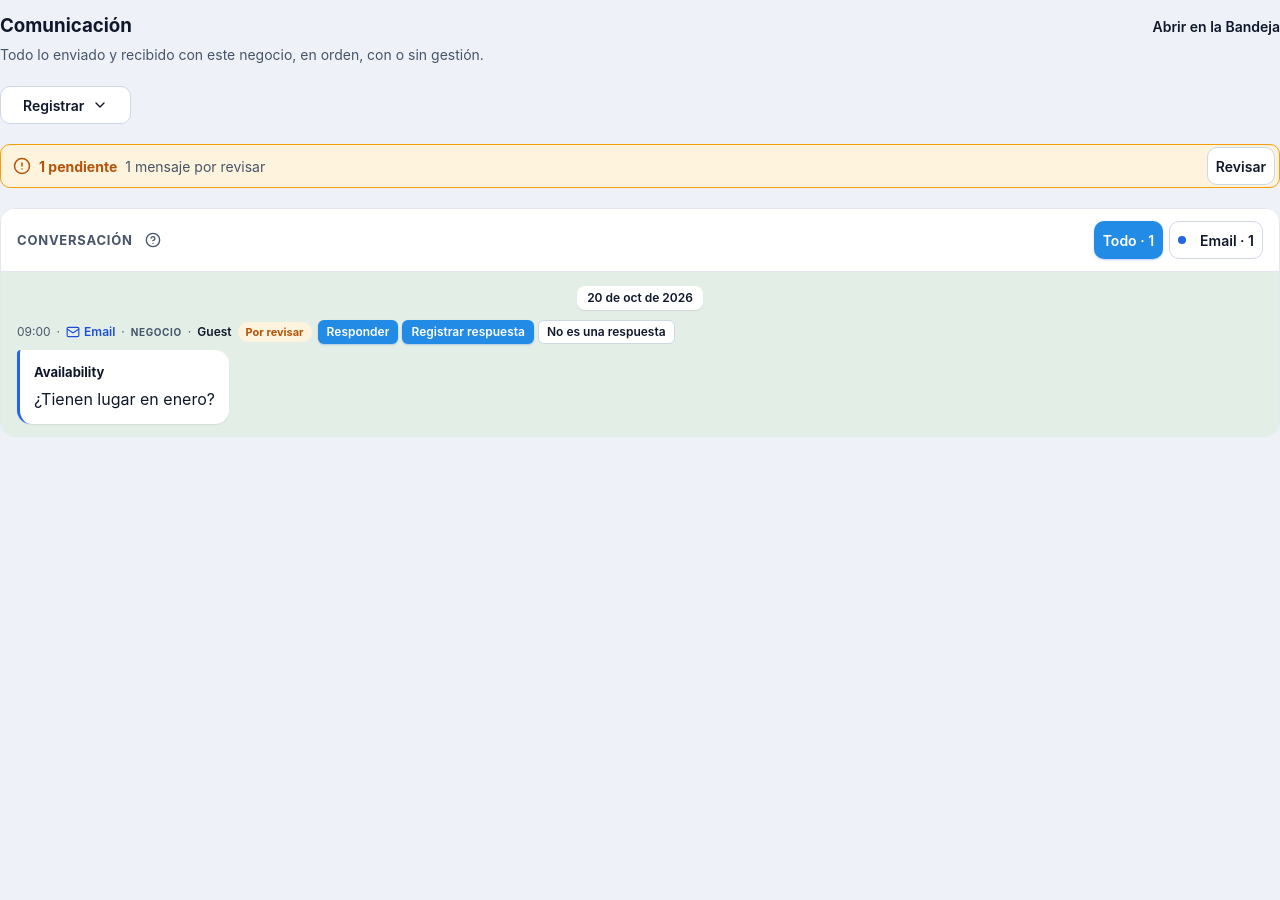
Scenario: inbound actions in Comunicación › keeps the reason and shows the error when the dismissal fails
The width and height of the screenshot is (1280, 900).
Step 1. Click the button "No es una respuesta" → point(606, 332), box [538,320,675,344]
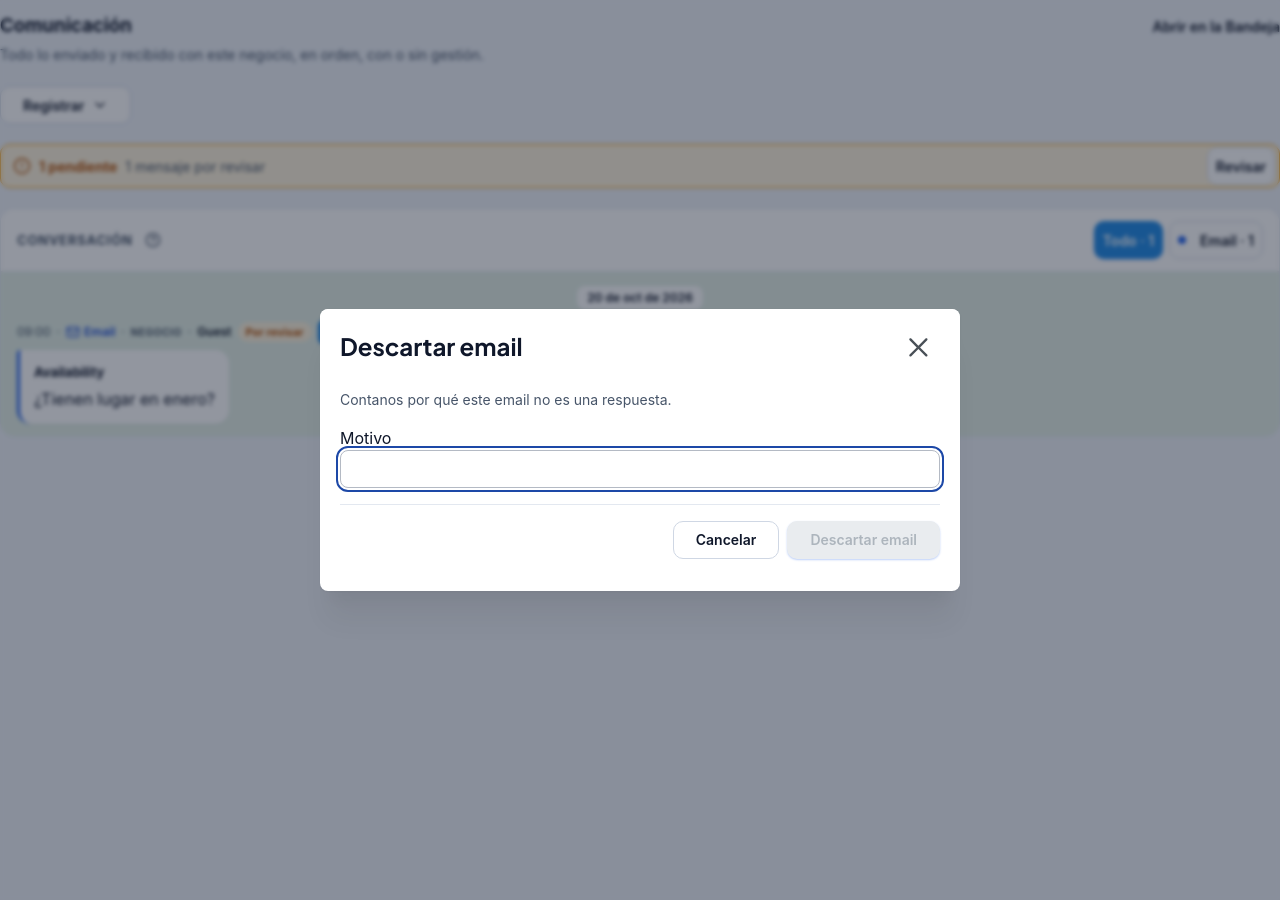
Step 2. Type "No corresponde" into the field labelled "Motivo" → point(640, 469), box [340,450,940,488]
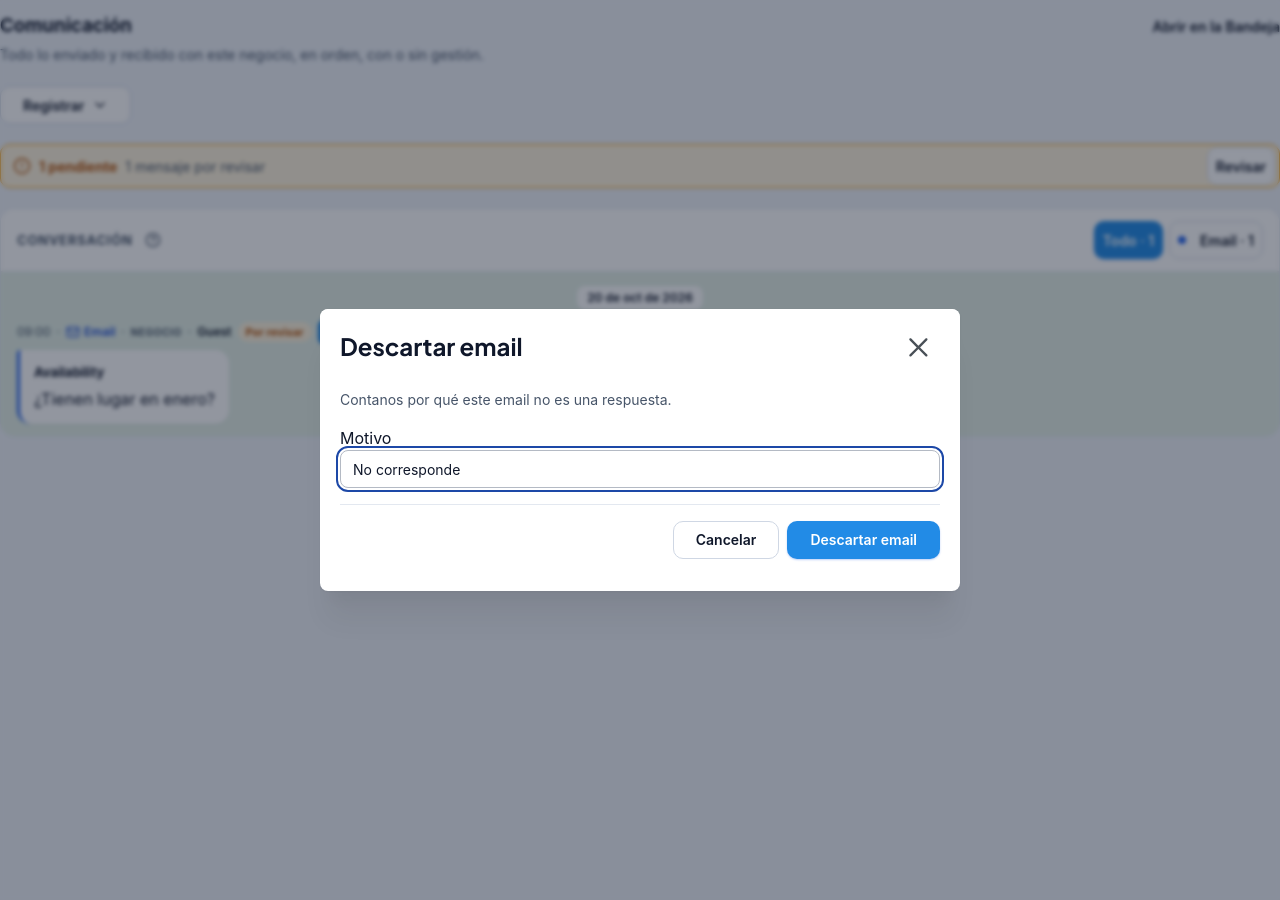
Step 3. Click the button "Descartar email" → point(864, 540), box [787,521,940,559]
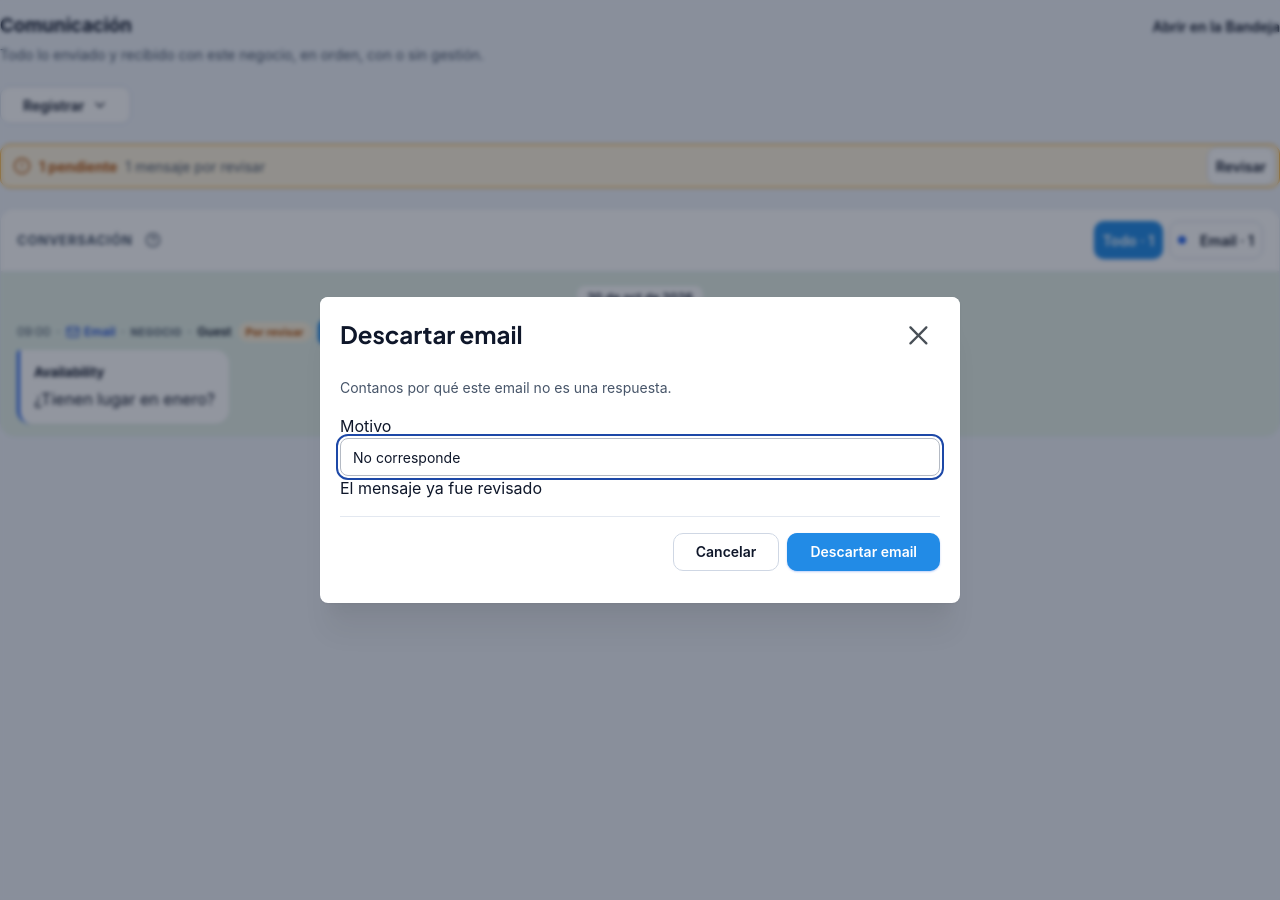
Check: the button "Descartar email" is enabled, box [787,533,940,571]
Check: the message reads "El mensaje ya fue revisado", box [340,478,542,498]
